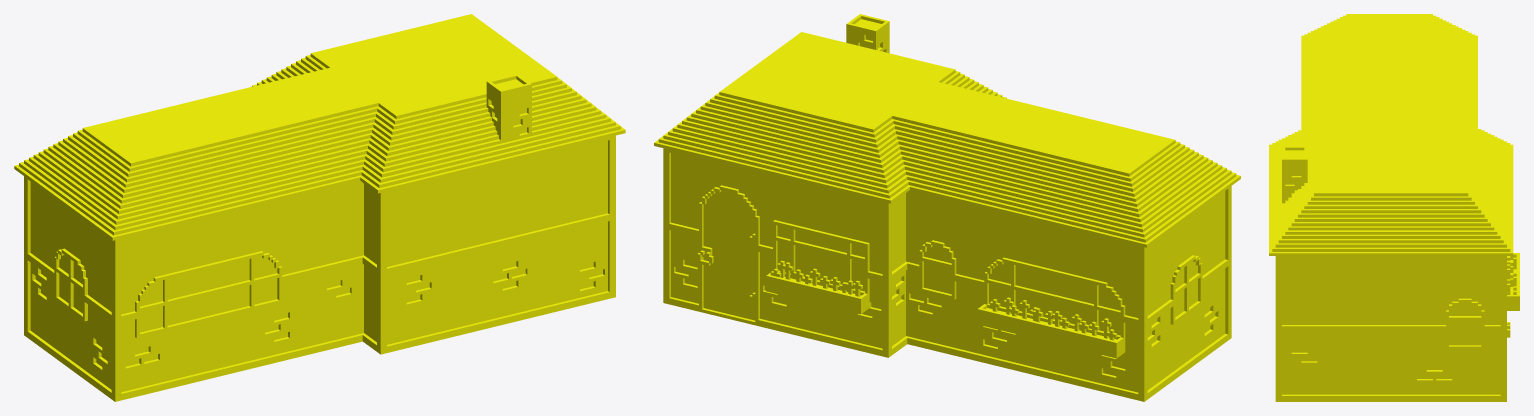
Rendered from voxel-farm-farm-house.glb.
The picture shows the model from 3 angles, left to right: view 1: azimuth 30°, elevation 25°; view 2: azimuth 150°, elevation 25°; view 3: azimuth 270°, elevation 25°; orthographic projection. The views are drawn at different scales.
Visible parts, largest first — view 1: VS_Farm_House; view 2: VS_Farm_House; view 3: VS_Farm_House.
Part boxes in pixels (x1=…): VS_Farm_House: x1=14, y1=14, x2=625, y2=401; VS_Farm_House: x1=654, y1=14, x2=1240, y2=401; VS_Farm_House: x1=1269, y1=14, x2=1519, y2=401.
Bounding box in the file's own units: 16 × 7.1 × 7.8.
